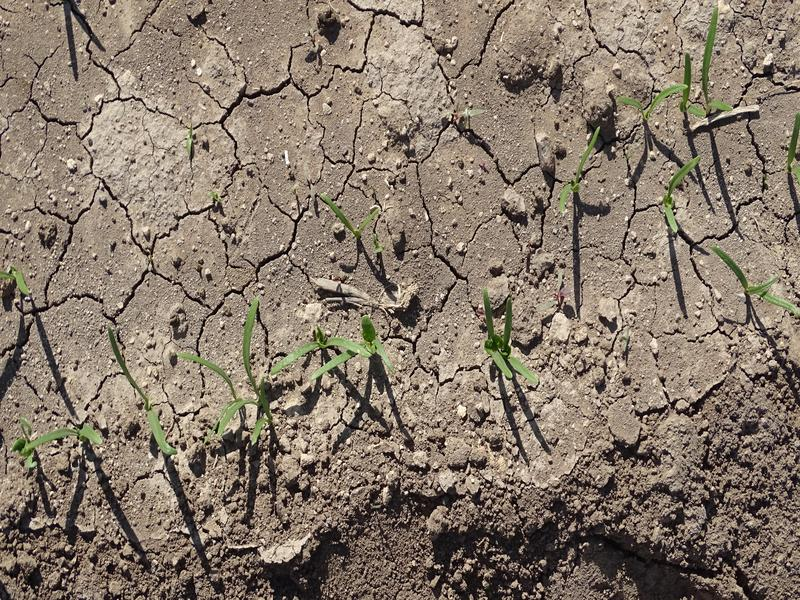Espinaca: (187, 304, 281, 442), (273, 320, 399, 380), (716, 249, 798, 316), (478, 292, 533, 385), (683, 8, 729, 118), (20, 418, 104, 468), (557, 125, 602, 208), (657, 158, 704, 228), (612, 83, 685, 118), (138, 409, 178, 461)
